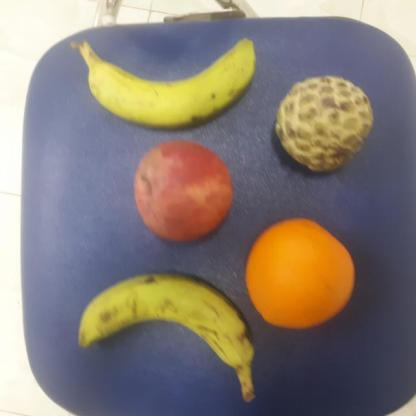annona: (272, 73, 376, 173)
apple: (130, 137, 235, 243)
banana: (74, 269, 257, 370), (79, 36, 259, 127)
orange: (245, 218, 357, 330)
